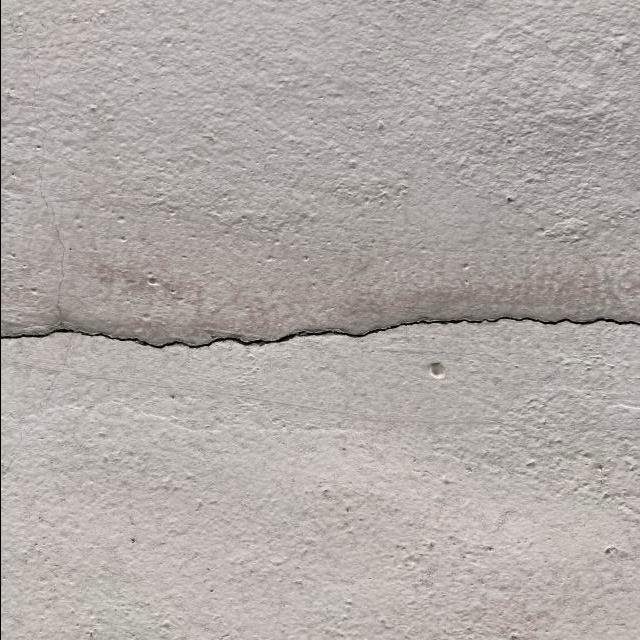SurfaceCrack: (1, 263, 640, 396)
